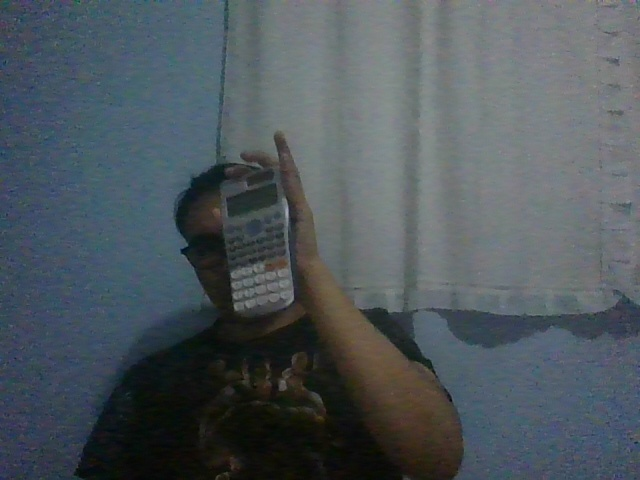calculadora: (219, 166, 297, 320)
